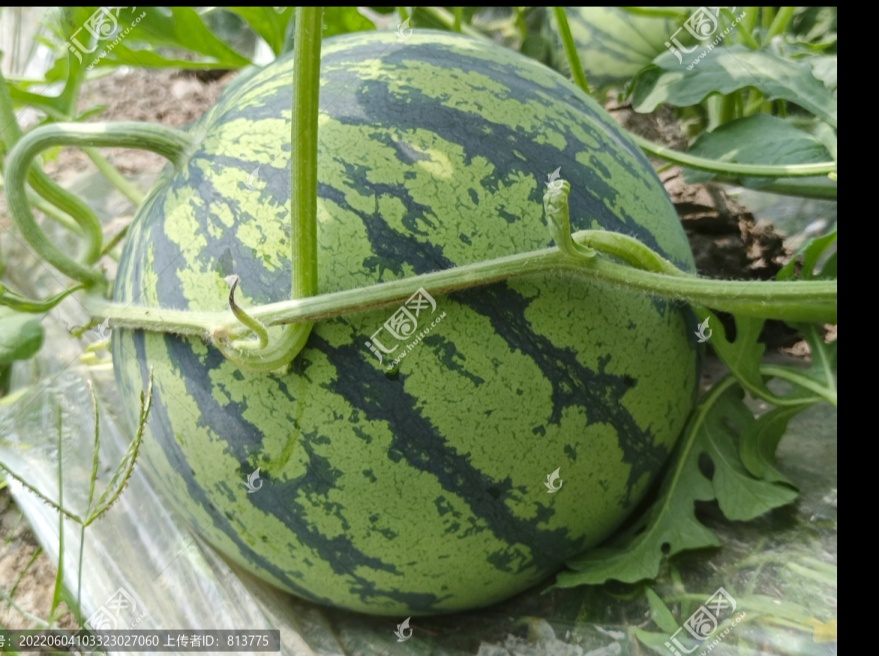watermelon: (120, 28, 704, 623)
